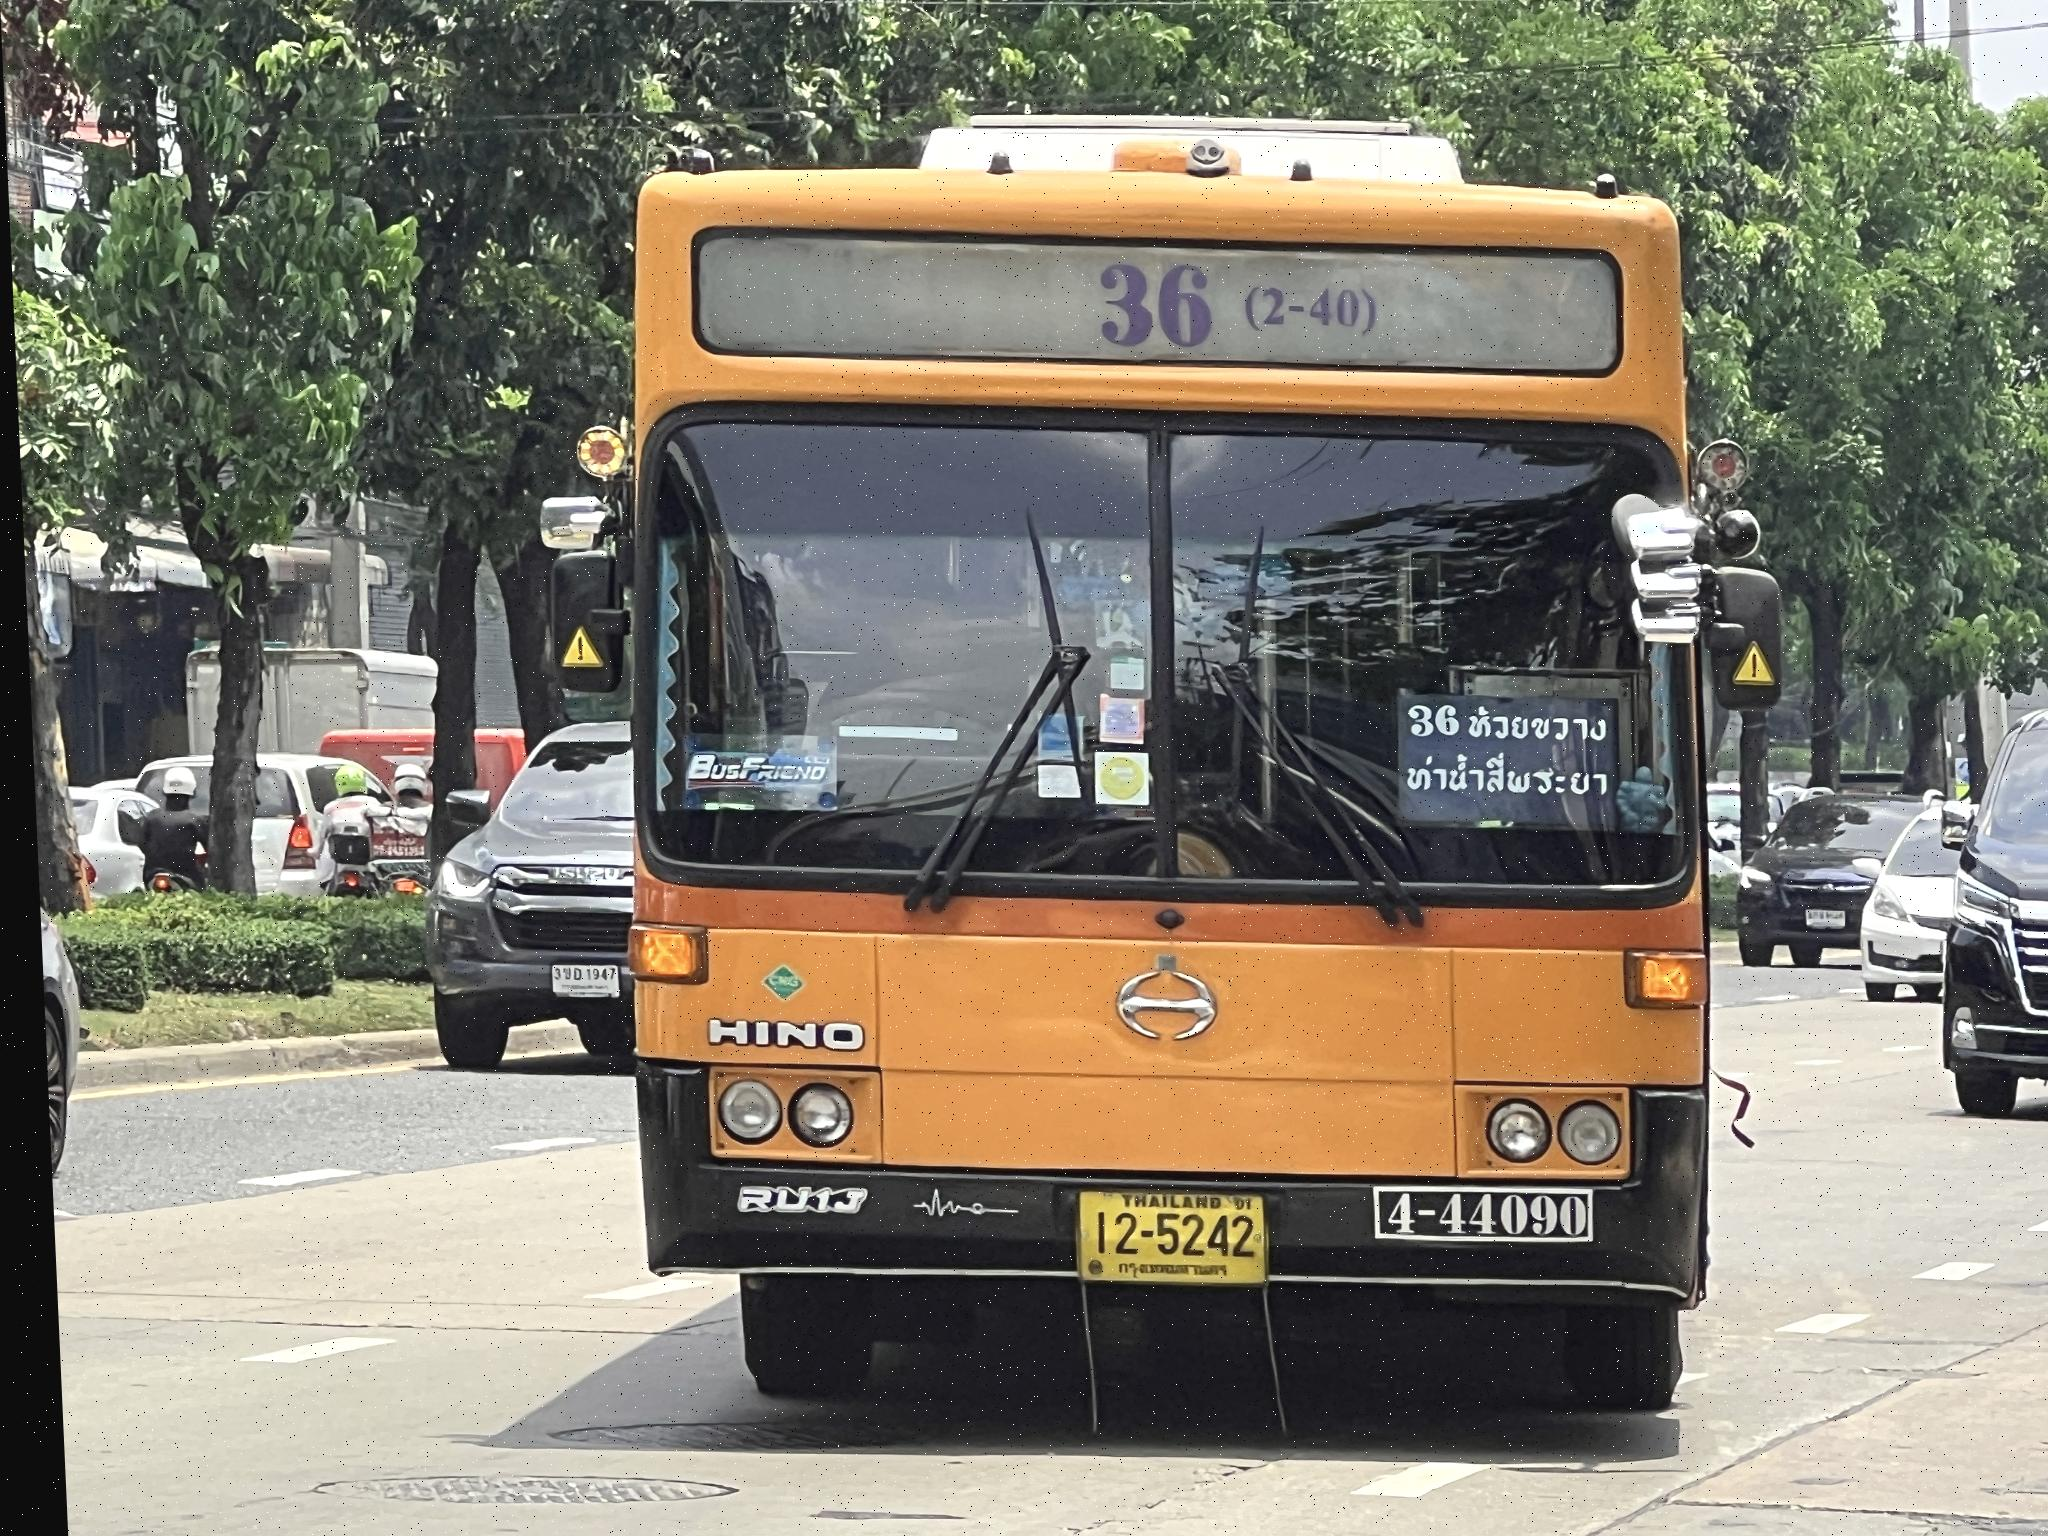BMTA-bus: (581, 118, 1763, 1421)
Bus Line Number: (1066, 255, 1384, 363)
Bus Side Number: (1364, 1187, 1584, 1241)
Destination Sign: (1384, 692, 1614, 831)
